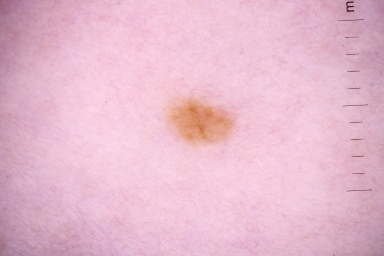nevus: (162, 95, 242, 152)
